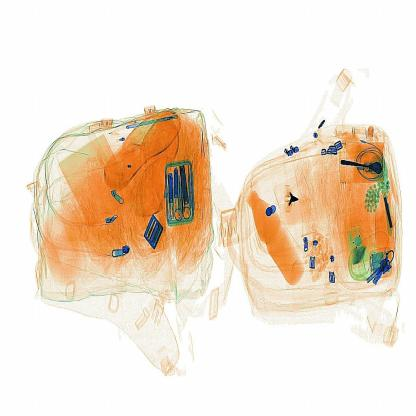gun: (272, 183, 305, 217)
